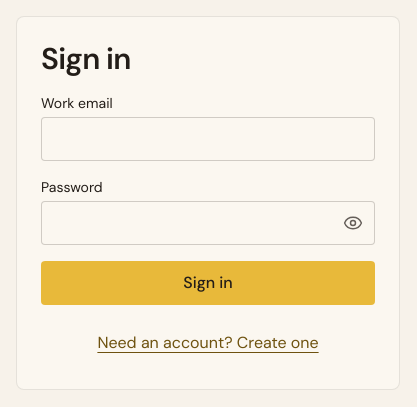
Test case: SignInPage › stays on Signing in… while the next page loads
The image size is (417, 407).
In the field labelled "Work email": (208, 139) [41,117,375,161], type "van@example.com"
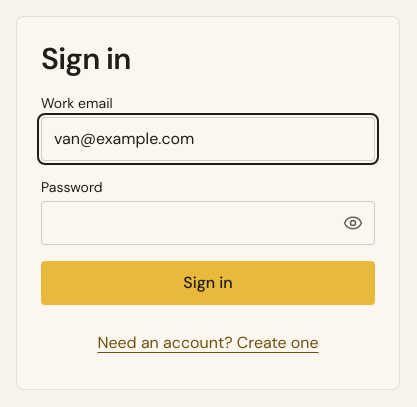
In the password field labelled "Password": (208, 223) [41,201,375,245], type "correct-horse"
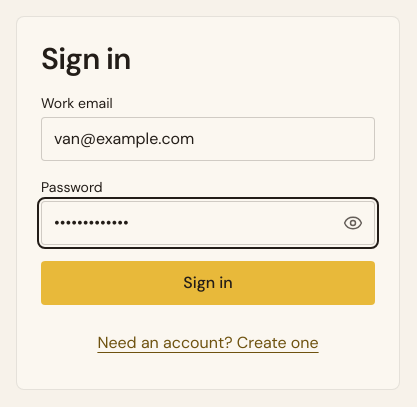
Click the button "Sign in": (208, 283) [41,261,375,305]
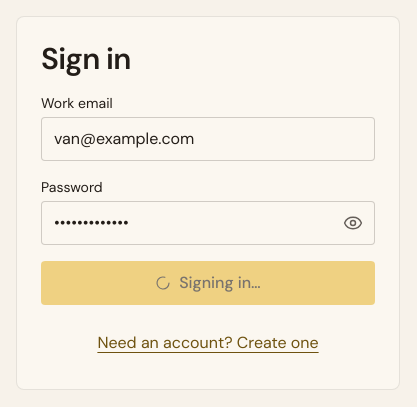
Expected: the button "Signing in…" is disabled, [41,261,375,305]
